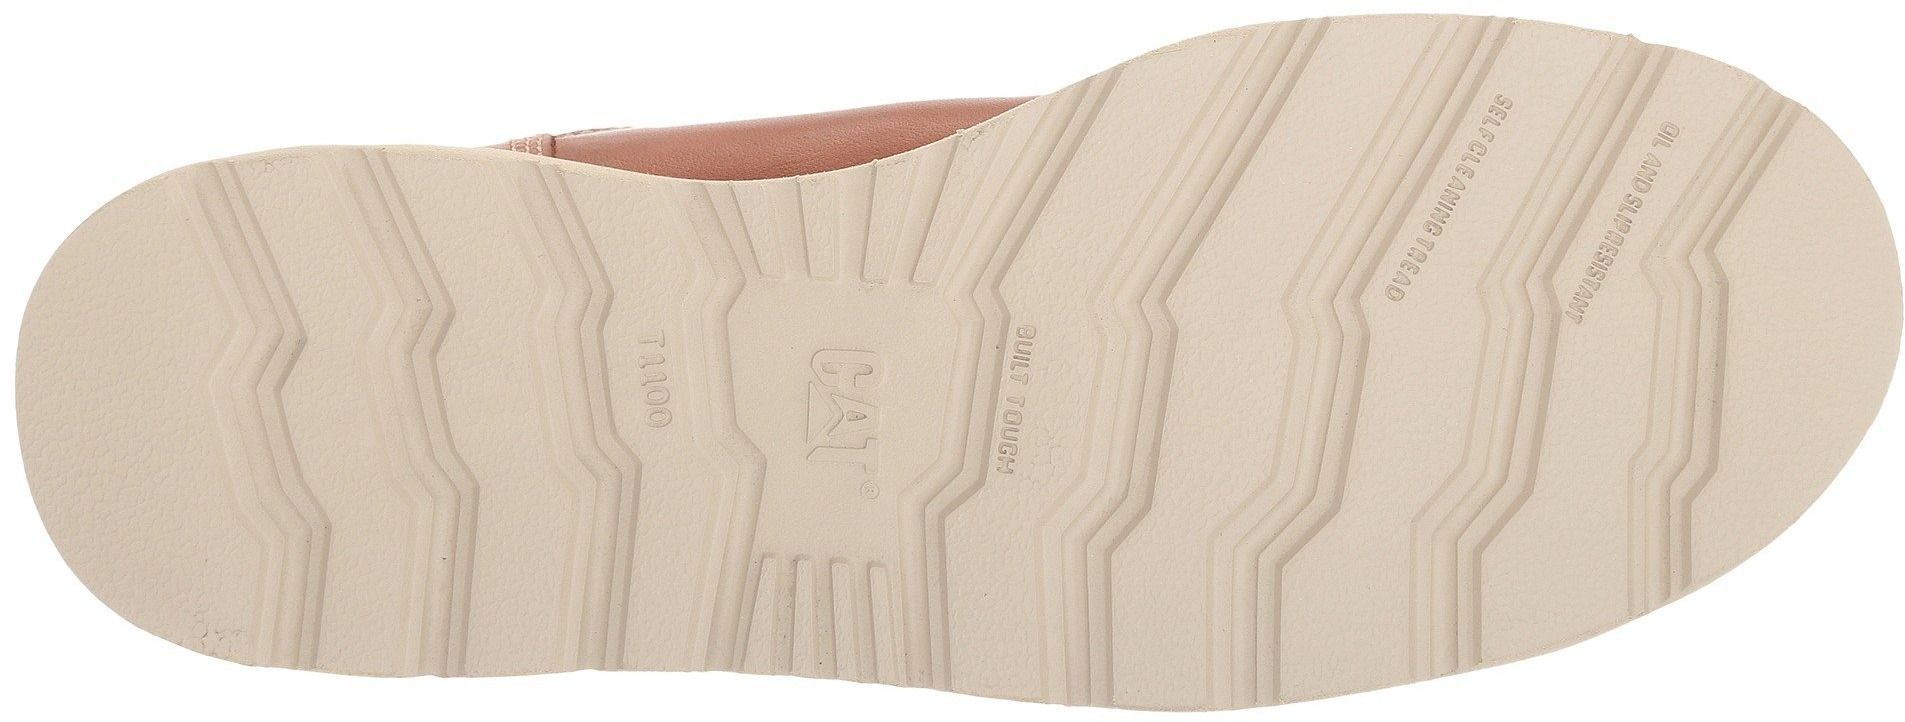line: (1141, 73, 1364, 283), (748, 543, 917, 693), (1451, 342, 1585, 497), (207, 192, 332, 320), (1270, 333, 1384, 469)
quad: (748, 543, 917, 693)
text: (751, 331, 901, 466), (606, 339, 705, 441), (1403, 201, 1469, 284), (1006, 321, 1082, 387), (1564, 252, 1637, 316), (1592, 175, 1660, 242), (980, 410, 1039, 481), (1457, 105, 1510, 160)
triangle: (802, 359, 840, 451)
